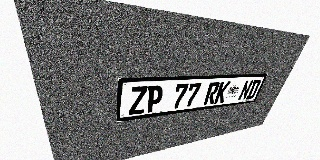7: (171, 84, 189, 110), (184, 83, 202, 108)
D: (245, 79, 262, 100)
K: (214, 81, 231, 104)
N: (237, 80, 254, 101)
P: (145, 85, 164, 113)
R: (203, 82, 221, 105)
Z: (129, 86, 148, 115)
